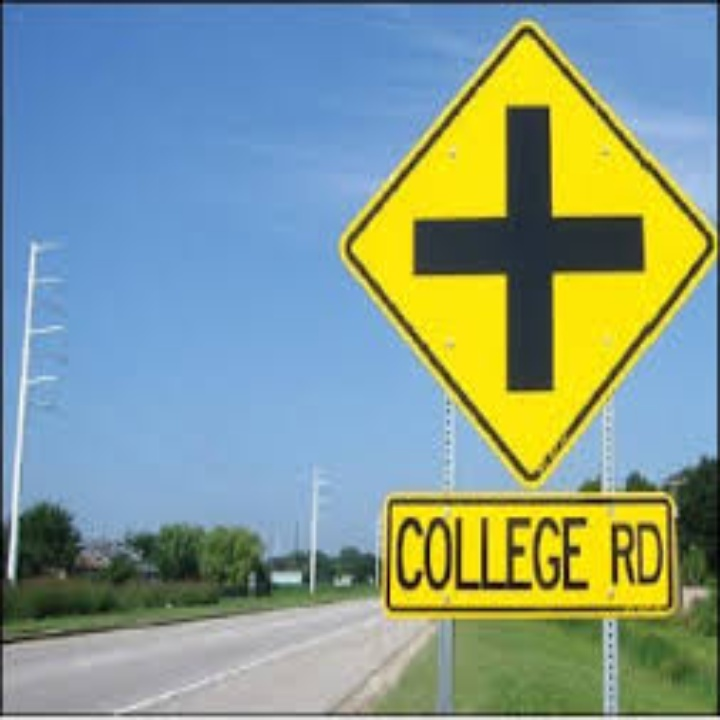inter: (401, 100, 655, 396)
